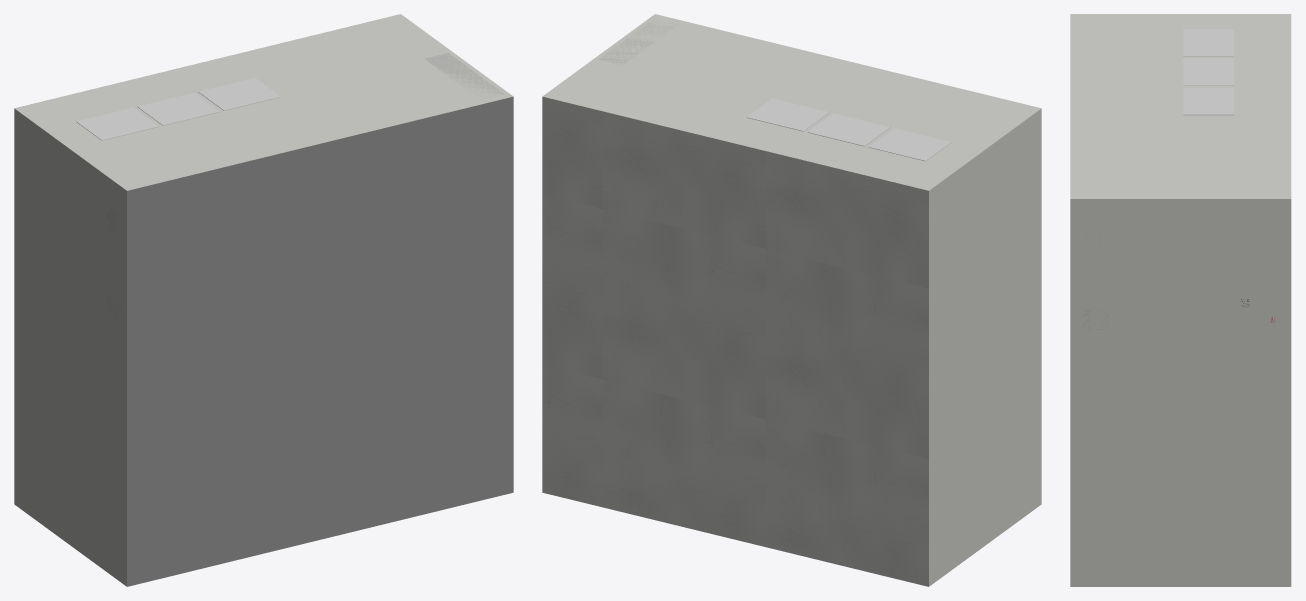
The model's file is lab.obj.
3 renders of one model, left to right at view 1: azimuth 30°, elevation 25°; view 2: azimuth 150°, elevation 25°; view 3: azimuth 270°, elevation 25°, orthographic. The views are drawn at different scales.
Visible parts, largest first — view 1: ceiling, wall_w, wall_n, window_frame_0, window_frame_2, window_frame_1, duct_down; view 2: lab_floor, wall_w, wall_n, window_frame_1, window_frame_0, window_frame_2, duct_down; view 3: wall_e, wall_n, window_frame_2, window_frame_0, window_frame_1.
Boxes of the visible parts, x1,y1,x2,y2 form: ceiling: (127,96,513,586); wall_w: (14,108,126,586); wall_n: (15,14,513,190); window_frame_0: (76,107,158,140); window_frame_2: (198,78,280,110); window_frame_1: (137,93,219,125); duct_down: (424,53,504,98); lab_floor: (542,96,928,586); wall_w: (929,108,1041,586); wall_n: (542,14,1040,190); window_frame_1: (807,113,890,146); window_frame_0: (868,128,951,161); window_frame_2: (747,98,829,131); duct_down: (598,19,676,65); wall_e: (1070,199,1291,586); wall_n: (1070,14,1291,198); window_frame_2: (1183,87,1233,115); window_frame_0: (1183,29,1233,56); window_frame_1: (1183,58,1233,85).
Size of the model in its own units: 9.5 by 9.31 by 4.8.
Materials: 38 (2 with a texture image).
